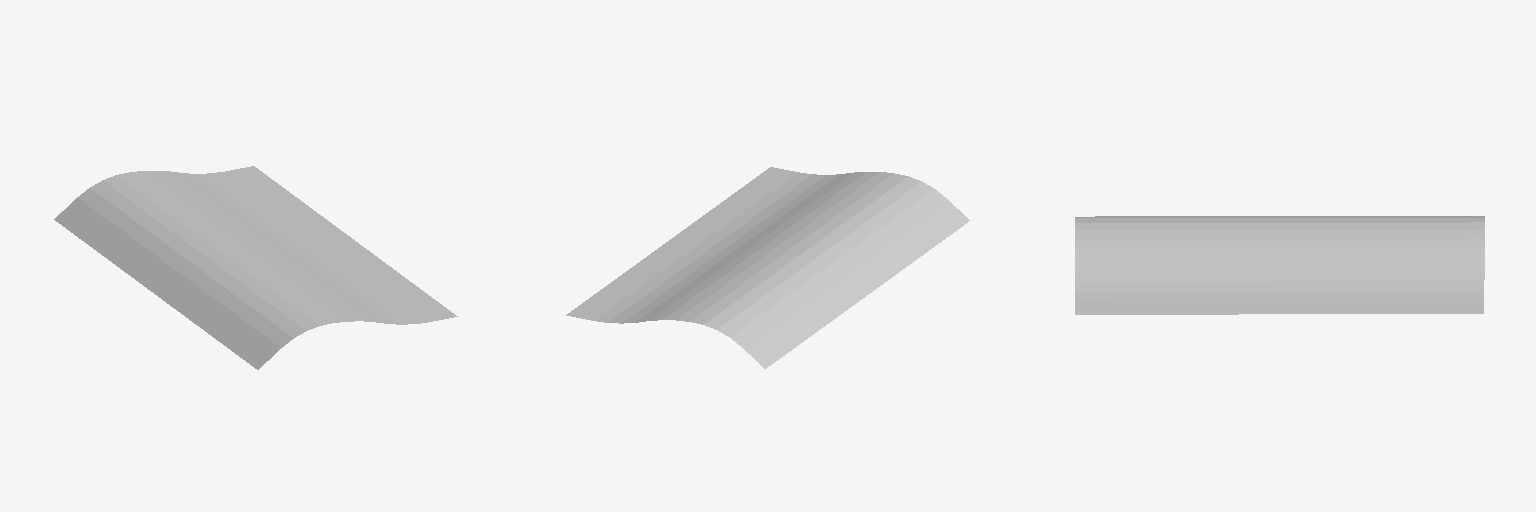
Rendered from page0010.obj.
3 views of the same model, side by side, from view 1: azimuth 30°, elevation 25°; view 2: azimuth 150°, elevation 25°; view 3: azimuth 270°, elevation 25° (orthographic).
Bounding box in the file's own units: 283 × 40.81 × 500.